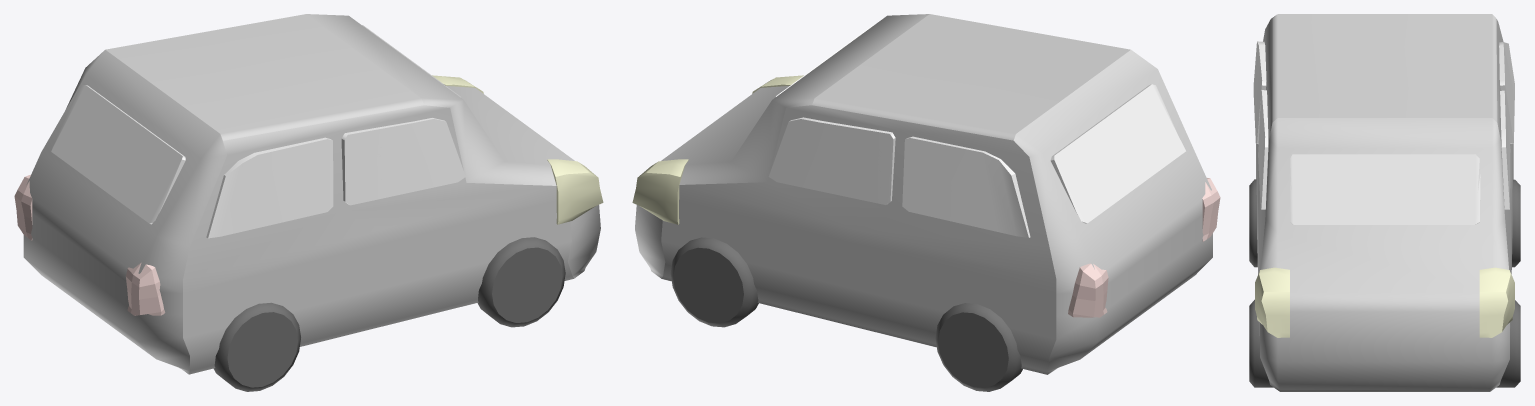
File: CarroBlanco.fbx
3 renders of one model, left to right at view 1: azimuth 30°, elevation 25°; view 2: azimuth 150°, elevation 25°; view 3: azimuth 270°, elevation 25°, orthographic. The views are drawn at different scales.
Visible parts, largest first — view 1: pCube1, pCube10, pCube7, pCube8, pCylinder1, pCylinder2, pCube9, pCube11; view 2: pCube1, pCube10, pCube4, pCube3, pCylinder3, pCylinder4, pCube9, pCube11; view 3: pCube1, pCube6, pCube9, pCube4, pCylinder1, pCylinder3, pCube8, pCube3, pCube7, pCylinder4, pCylinder2.
Boxes of the visible parts, x1,y1,x2,y2 form: pCube1: (23, 14, 600, 374); pCube10: (51, 85, 185, 224); pCube7: (206, 137, 333, 238); pCube8: (341, 118, 465, 205); pCylinder1: (477, 237, 565, 327); pCylinder2: (213, 302, 300, 391); pCube9: (432, 75, 603, 224); pCube11: (14, 175, 165, 315); pCube1: (635, 14, 1212, 374); pCube10: (1050, 84, 1185, 223); pCube4: (902, 136, 1030, 237); pCube3: (768, 117, 895, 204); pCylinder3: (670, 237, 758, 327); pCylinder4: (935, 303, 1022, 391); pCube9: (632, 75, 803, 224); pCube11: (1068, 178, 1220, 317); pCube1: (1256, 14, 1513, 391); pCube6: (1289, 154, 1480, 224); pCube9: (1255, 267, 1514, 337); pCube4: (1499, 42, 1514, 143); pCylinder1: (1249, 299, 1273, 387); pCylinder3: (1496, 300, 1520, 387); pCube8: (1258, 90, 1268, 209); pCube3: (1500, 90, 1510, 209); pCube7: (1253, 41, 1266, 143); pCylinder4: (1512, 179, 1520, 267); pCylinder2: (1249, 179, 1257, 267).
Size of the model in its own units: 20.49 by 10.7 by 11.09.
